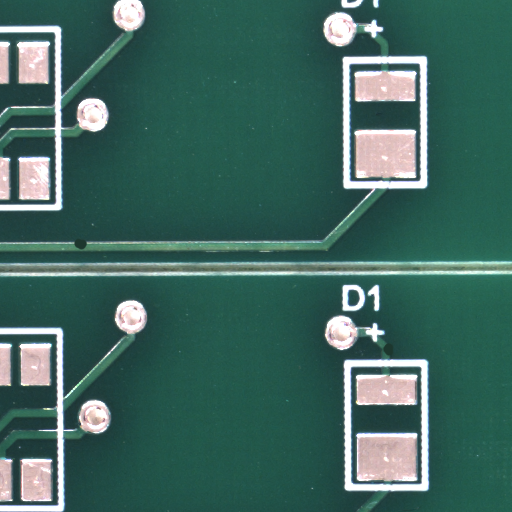Mouse_bite: (388, 349, 398, 362), (79, 244, 91, 253)
